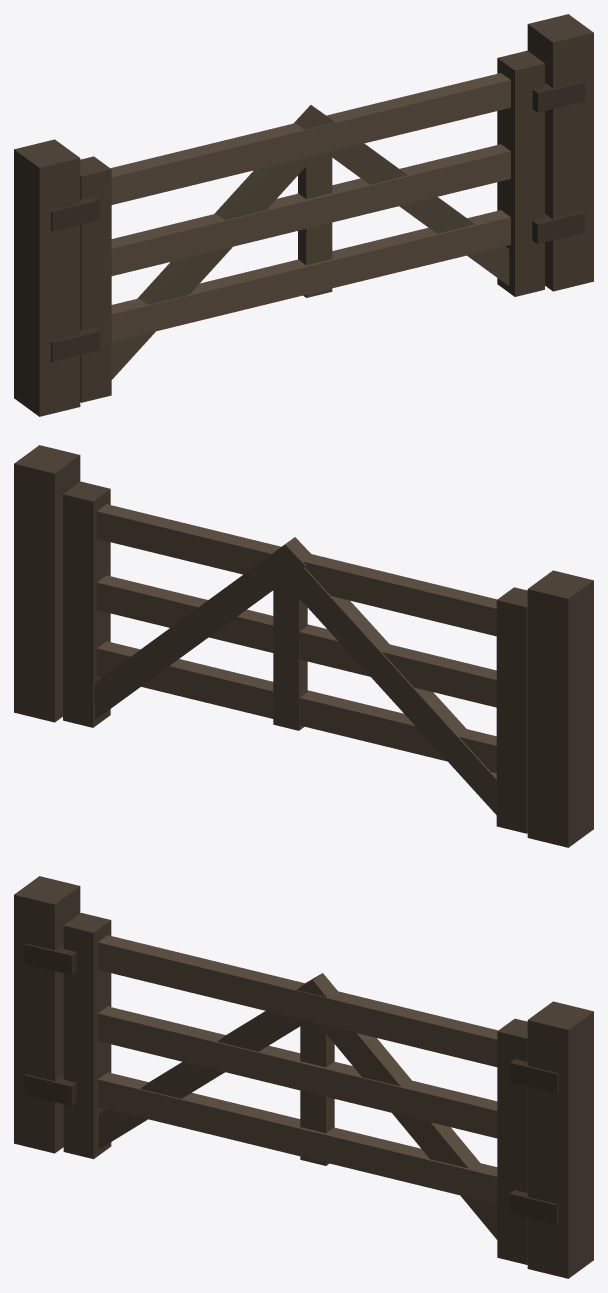
File: gate.fbx
3 views of the same model, one above another, from view 1: azimuth 30°, elevation 25°; view 2: azimuth 150°, elevation 25°; view 3: azimuth 330°, elevation 25° (orthographic).
Visible parts, largest first — view 1: polySurface43; view 2: polySurface43; view 3: polySurface43.
Boxes of the visible parts, x1,y1,x2,y2 form: polySurface43: (14, 14, 593, 416); polySurface43: (14, 445, 593, 847); polySurface43: (14, 876, 593, 1278).
Bounding box in the file's own units: 2.95 × 1.27 × 0.247.
